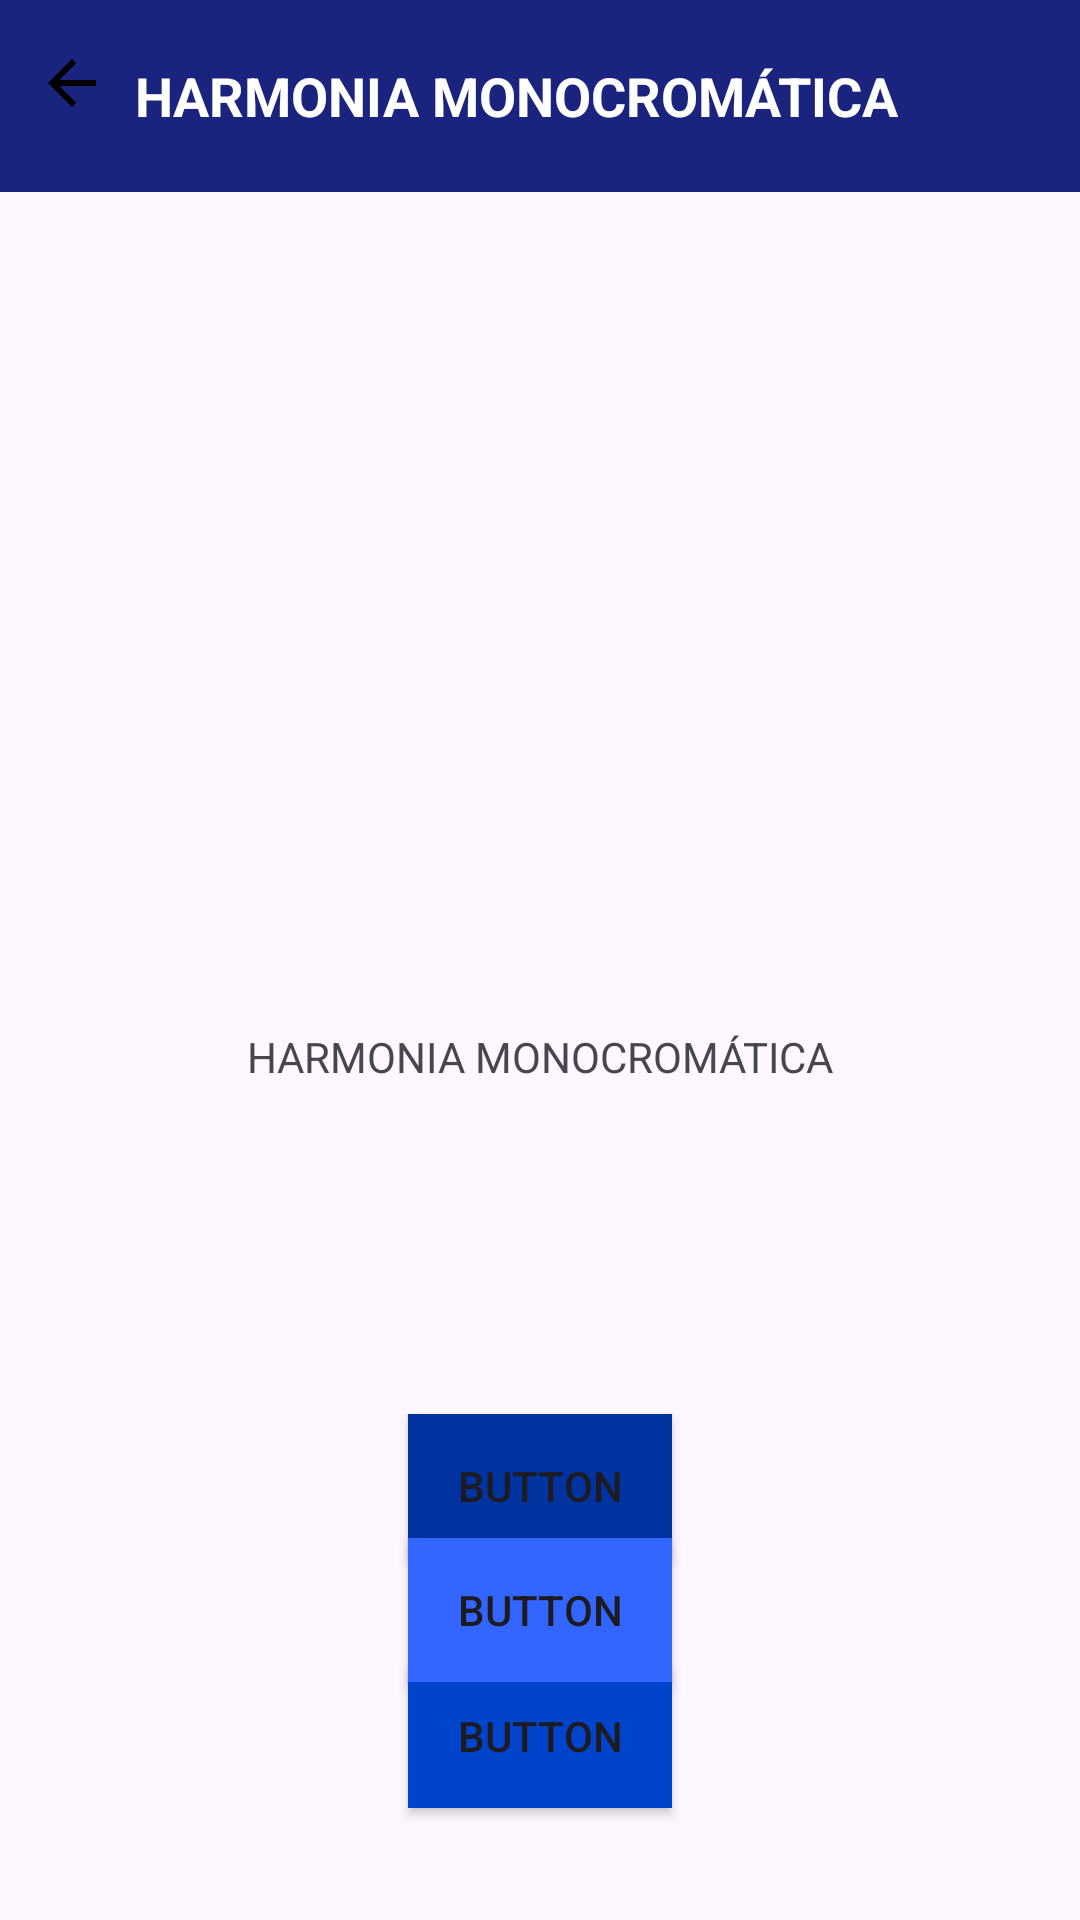

Icon click points for this 1080 x 1920 phone screenshot, format (x,y):
Previous: (72,83)
